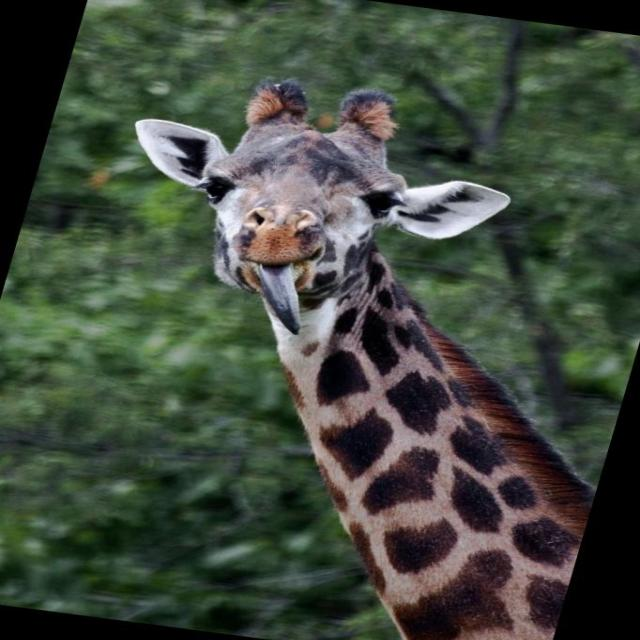Giraffe: (110, 65, 640, 639)
